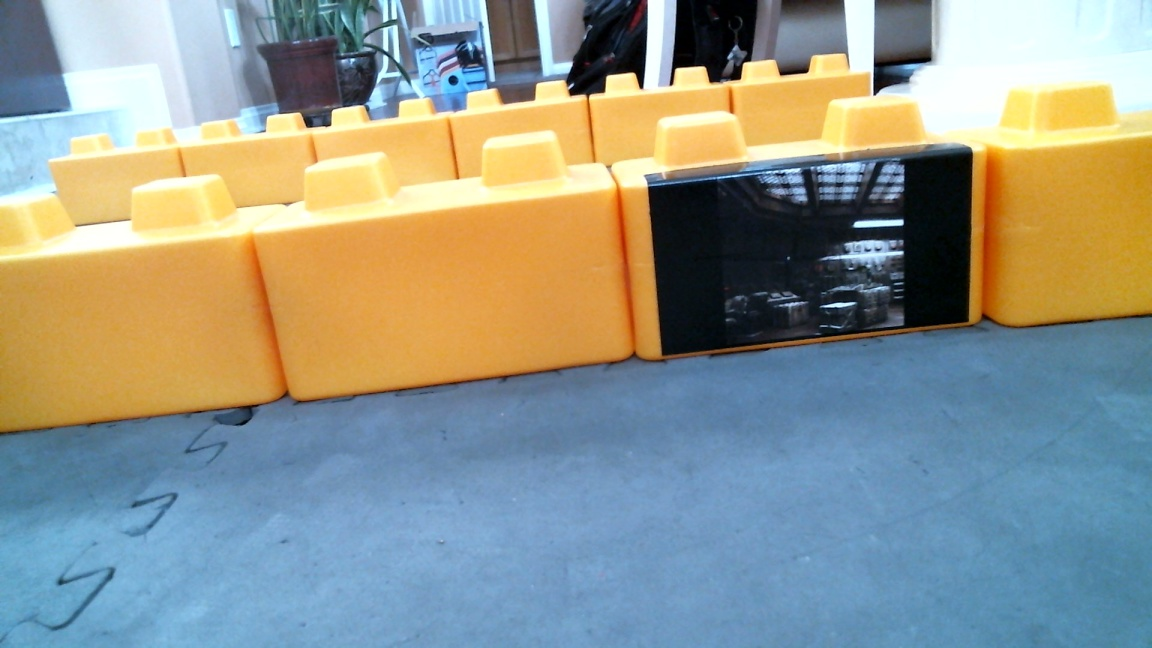skystone: (628, 115, 987, 337)
stone: (291, 132, 618, 413), (1, 159, 281, 432), (991, 63, 1152, 327)
